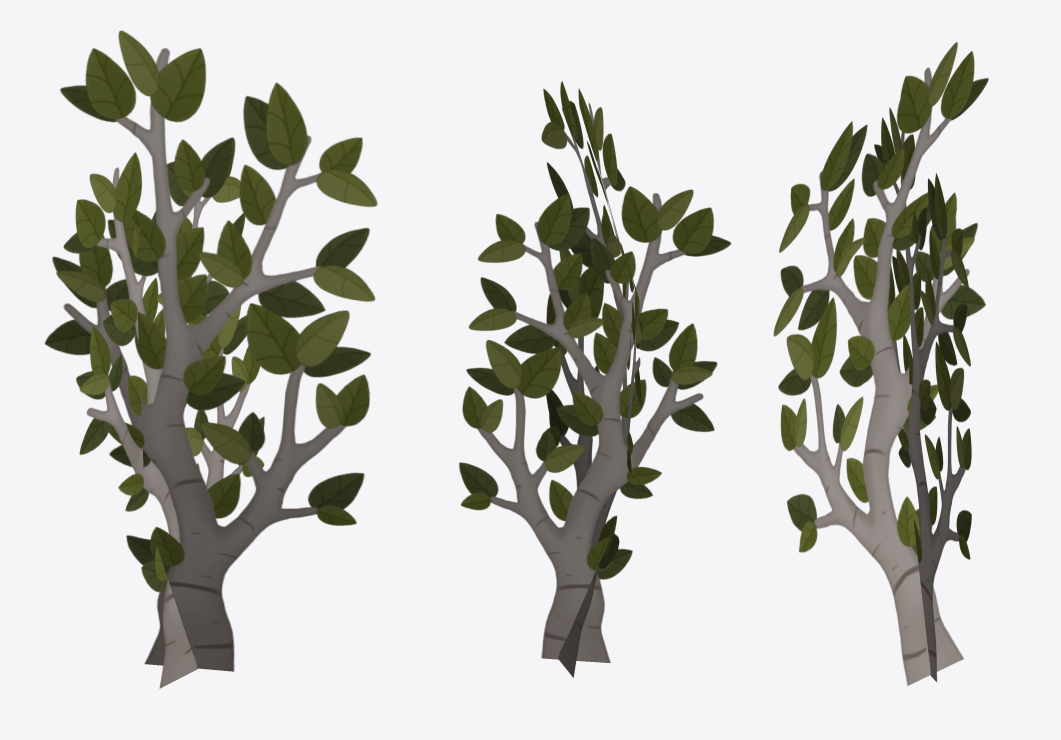
Rendered from birch_3.fbx.
3 renders of one model, left to right at view 1: azimuth 30°, elevation 25°; view 2: azimuth 150°, elevation 25°; view 3: azimuth 270°, elevation 25°, orthographic. The views are drawn at different scales.
Parts seen in each view (by area): view 1: Birch-3; view 2: Birch-3; view 3: Birch-3.
Part boxes in pixels (bbox=[...]): Birch-3: bbox=[44, 30, 377, 688]; Birch-3: bbox=[459, 81, 731, 677]; Birch-3: bbox=[773, 42, 988, 685].
Size of the model in its own units: 26.86 by 55.66 by 22.96.
